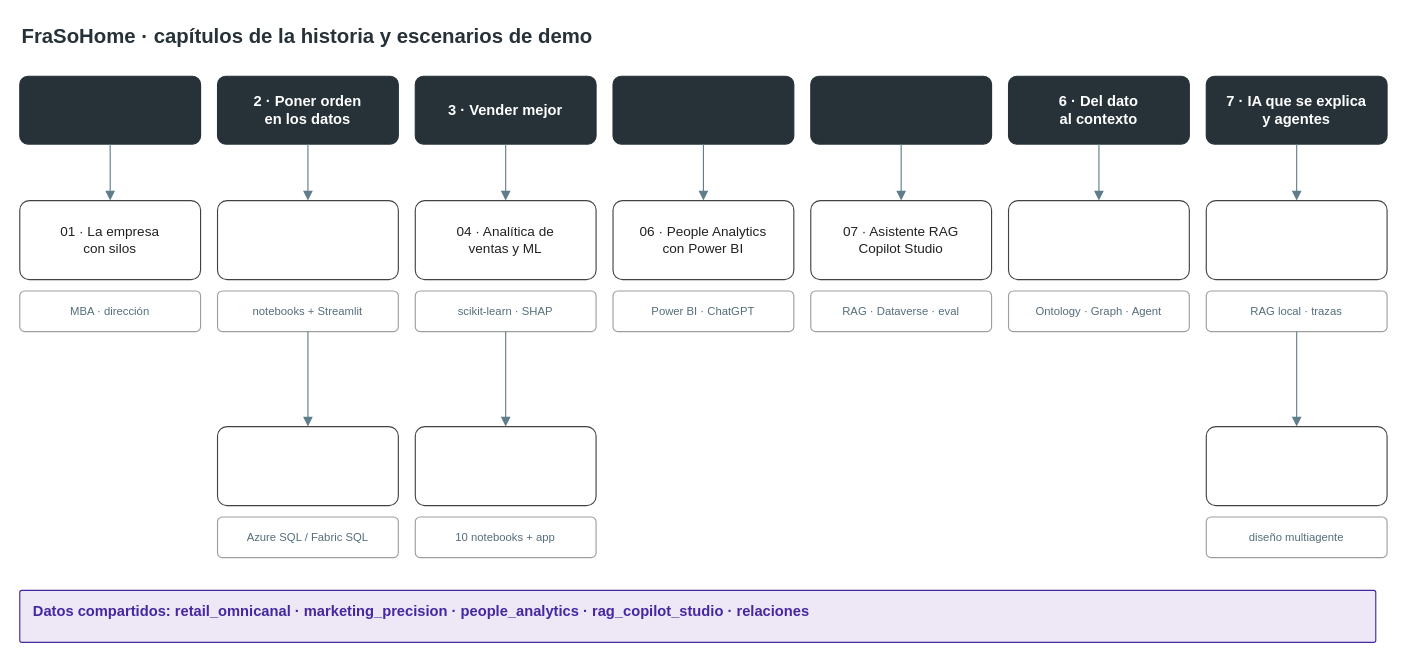
Image size: 1407x662. Some labels were removed from this diagram. Each missing label, with the centre of its shape:
02 · Fabric del CSV a la fact table: (307,239)
03 · SQL Raw → Core → Analytics: (307,465)
05 · Marketing de precisión: (505,465)
08 · Fabric IQ ontología y agente: (1098,239)
09 · Interpretabilidad GenAI: (1296,239)
1 · Empresa con silos: (110,109)
10 · Agentes Foundry: (1296,465)
4 · Las personas: (703,109)
5 · Preguntar a la empresa: (901,109)
